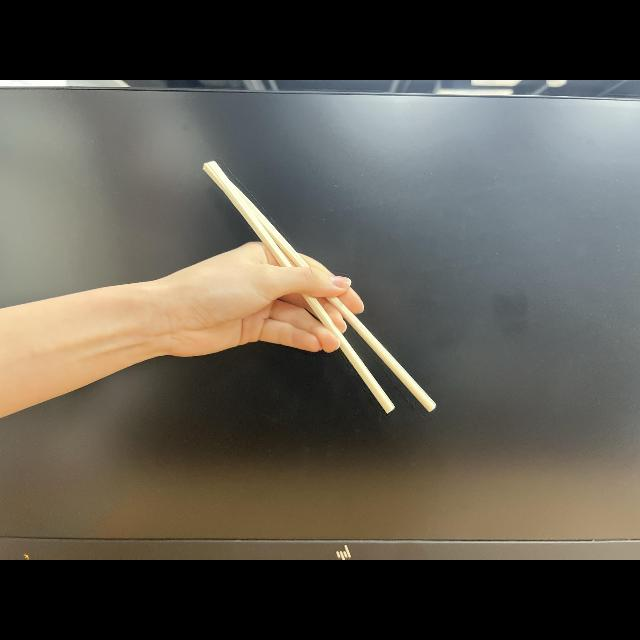stick: (176, 160, 436, 412)
